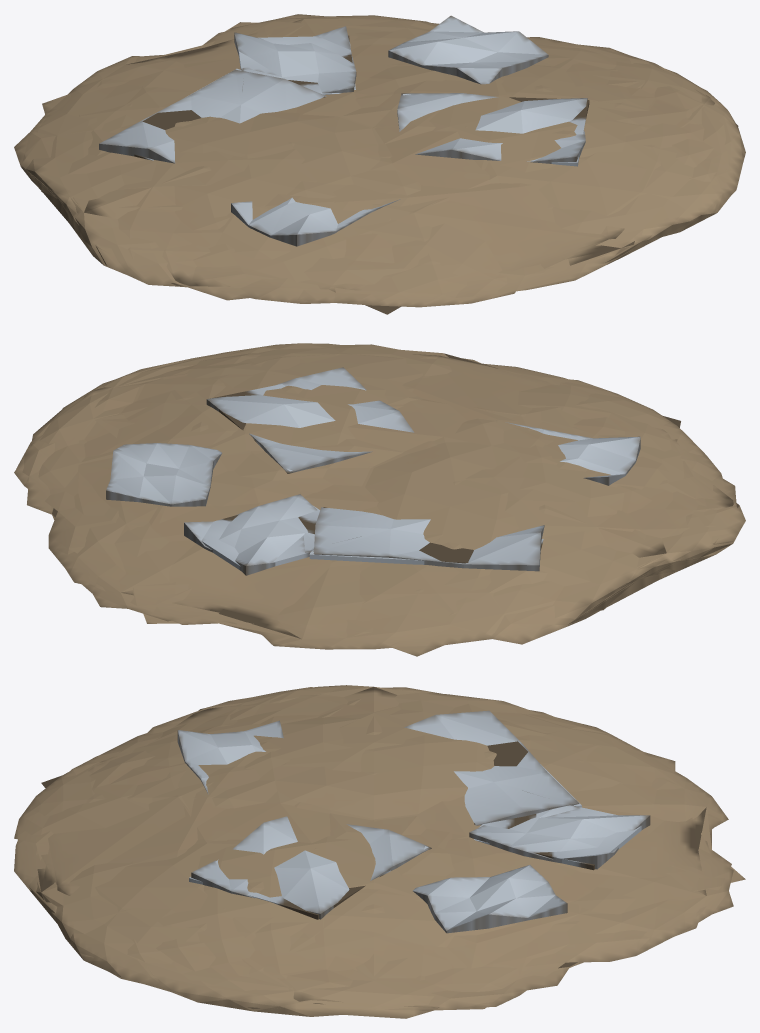
File: SF_INCL_SILVER_SHEET_V1.glb
The picture shows the model from 3 angles, top to bottom: view 1: azimuth 30°, elevation 25°; view 2: azimuth 150°, elevation 25°; view 3: azimuth 270°, elevation 25°; orthographic projection. The views are drawn at different scales.
Parts seen in each view (by area): view 1: LOD0_SF_INCL_SILVER_SHEET_V1, LOD1_SF_INCL_SILVER_SHEET_V1, LOD2_SF_INCL_SILVER_SHEET_V1; view 2: LOD0_SF_INCL_SILVER_SHEET_V1, LOD1_SF_INCL_SILVER_SHEET_V1, LOD2_SF_INCL_SILVER_SHEET_V1; view 3: LOD0_SF_INCL_SILVER_SHEET_V1, LOD1_SF_INCL_SILVER_SHEET_V1, LOD2_SF_INCL_SILVER_SHEET_V1.
Part boxes in pixels (bbox=[...]): LOD0_SF_INCL_SILVER_SHEET_V1: bbox=[14, 14, 745, 307]; LOD1_SF_INCL_SILVER_SHEET_V1: bbox=[21, 19, 738, 314]; LOD2_SF_INCL_SILVER_SHEET_V1: bbox=[41, 19, 645, 271]; LOD0_SF_INCL_SILVER_SHEET_V1: bbox=[14, 343, 745, 656]; LOD1_SF_INCL_SILVER_SHEET_V1: bbox=[31, 353, 739, 638]; LOD2_SF_INCL_SILVER_SHEET_V1: bbox=[52, 353, 666, 638]; LOD0_SF_INCL_SILVER_SHEET_V1: bbox=[14, 685, 733, 1018]; LOD1_SF_INCL_SILVER_SHEET_V1: bbox=[37, 687, 745, 1011]; LOD2_SF_INCL_SILVER_SHEET_V1: bbox=[41, 687, 706, 979].
Size of the model in its own units: 1.17 by 0.0829 by 1.12.
Materials: 1 (1 with a texture image).
